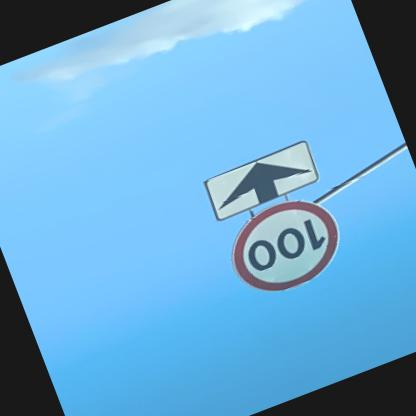speedlimit: (220, 186, 356, 306)
